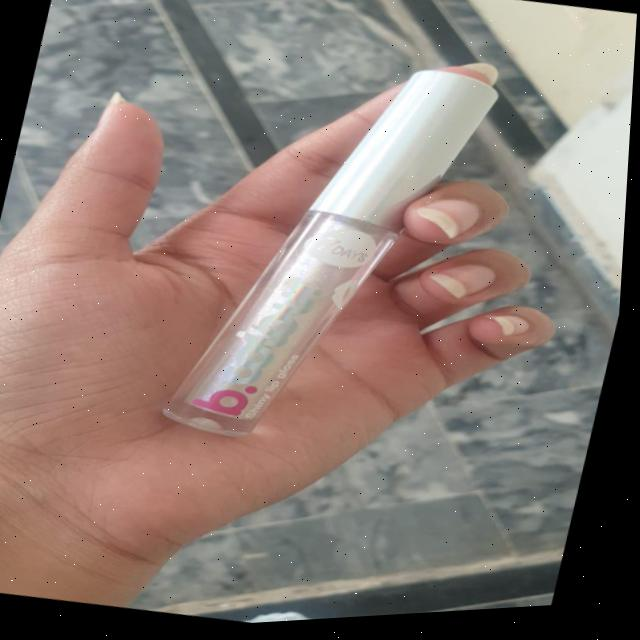lip gloss: (166, 39, 516, 489)
